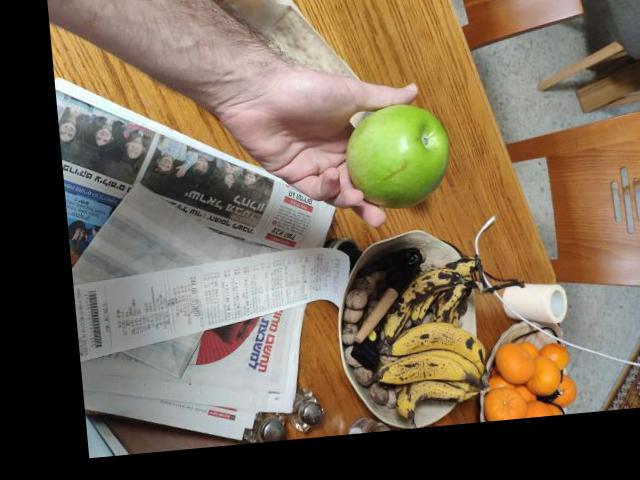apple: (345, 101, 459, 210)
